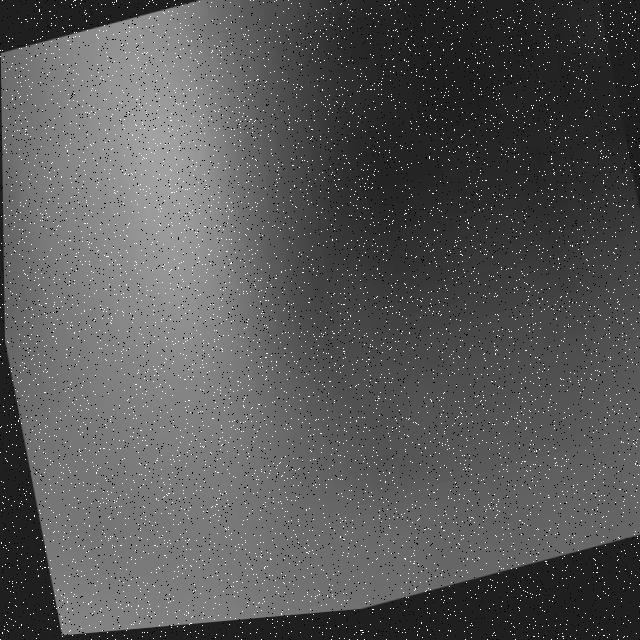person: (1, 1, 344, 605)
